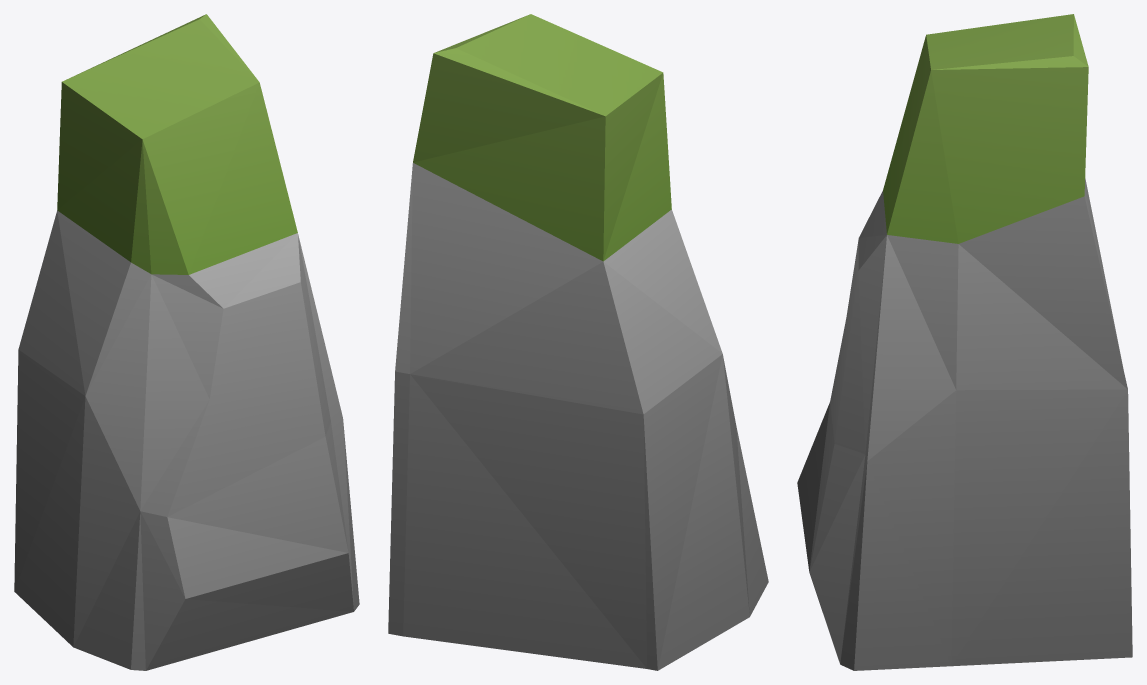
The model's file is green-stone-2.glb.
The picture shows the model from 3 angles, left to right: view 1: azimuth 30°, elevation 25°; view 2: azimuth 150°, elevation 25°; view 3: azimuth 270°, elevation 25°; orthographic projection. The views are drawn at different scales.
Visible parts, largest first — view 1: green stone 2; view 2: green stone 2; view 3: green stone 2.
Part boxes in pixels (box(x1,y1,x2,y2)): green stone 2: box(14, 14, 359, 670); green stone 2: box(388, 14, 768, 670); green stone 2: box(797, 14, 1132, 670).
Bounding box in the file's own units: 0.4632 × 0.9017 × 0.4708.
Materials: 1 (1 with a texture image).
